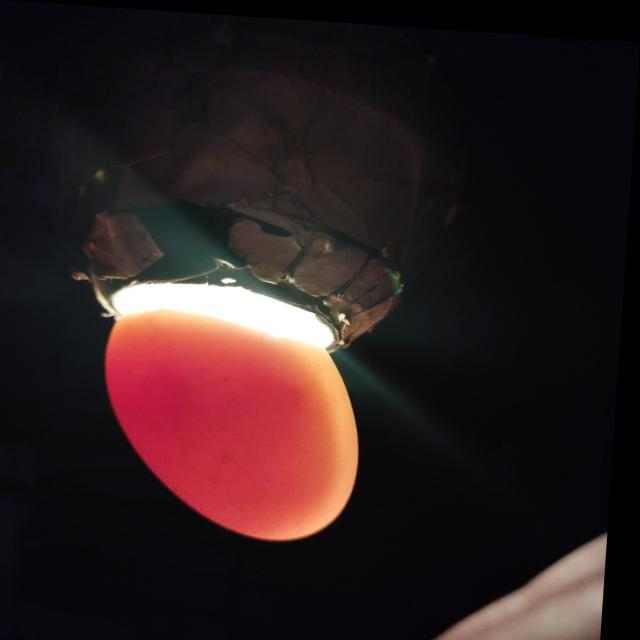Gema Quebrada: (110, 329, 342, 533)
